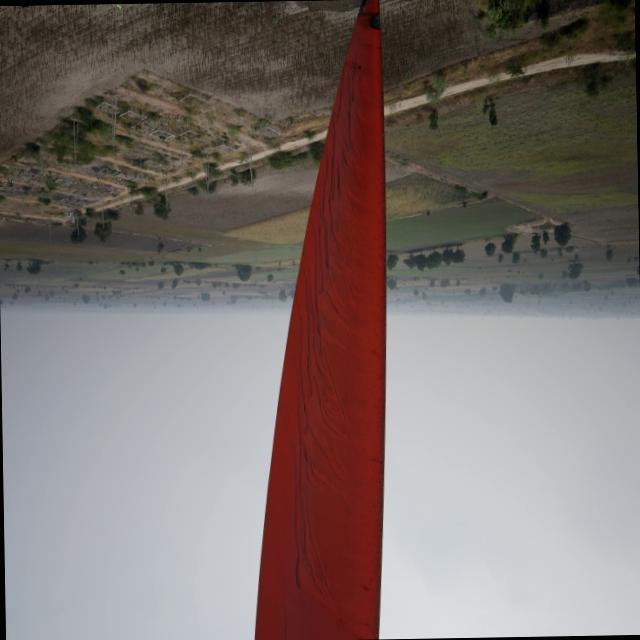Dirt: (252, 52, 386, 639)
Oil LEAKAGE: (354, 0, 390, 34)
